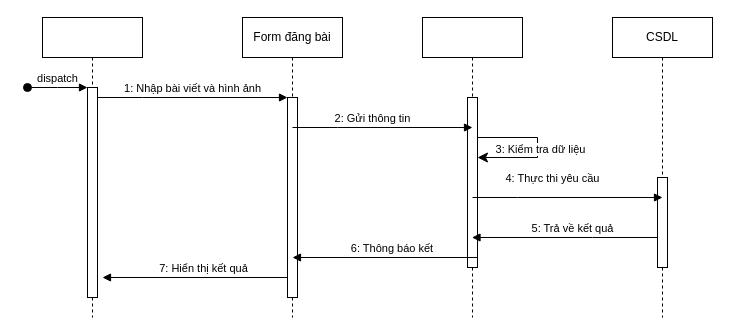
The diagram is 730 pixels wide and 335 high, and some of its shapes have lost their labels. Each missing label, with the box of its shape:
Hệ thống: (422, 16, 522, 318)
Người dùng: (42, 16, 142, 318)
